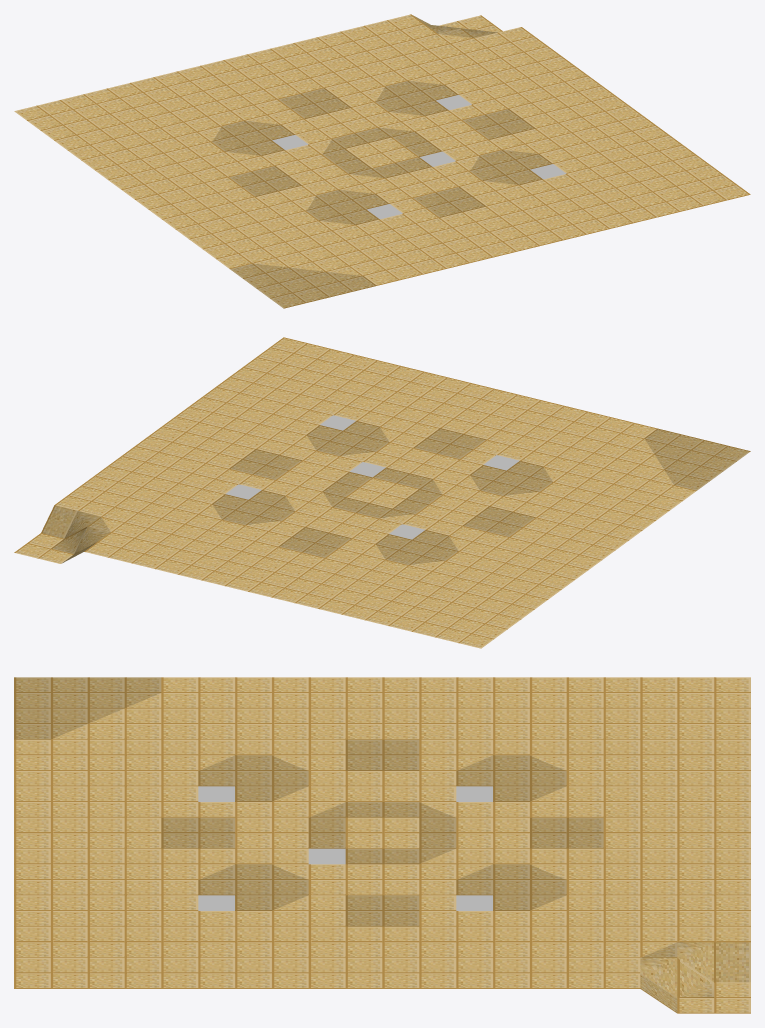
File: FloorCentral_4.obj
3 renders of one model, top to bottom at view 1: azimuth 30°, elevation 25°; view 2: azimuth 150°, elevation 25°; view 3: azimuth 270°, elevation 25°, orthographic. The views are drawn at different scales.
Visible parts, largest first — view 1: FloorCentral_4; view 2: FloorCentral_4; view 3: FloorCentral_4.
Part boxes in pixels (<box>): FloorCentral_4: <box>14,14,750,308</box>; FloorCentral_4: <box>14,337,750,648</box>; FloorCentral_4: <box>14,677,750,1013</box>.
Size of the model in its own units: 20 by 0.7379 by 20.
